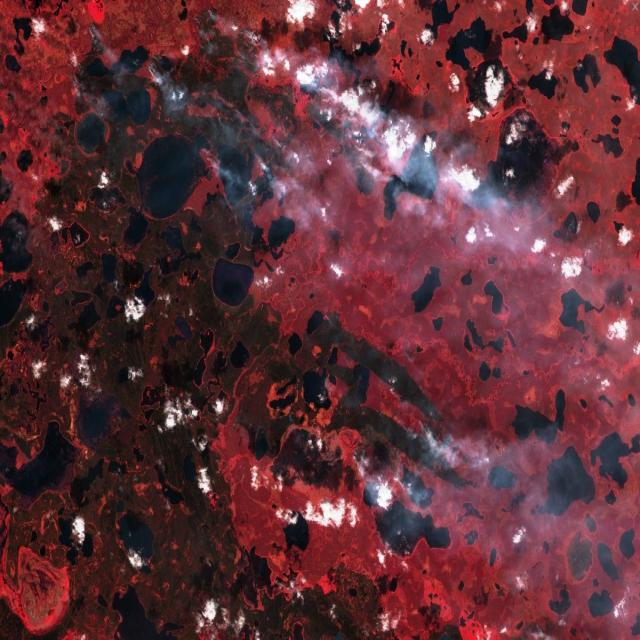fire: (52, 0, 382, 200), (327, 400, 475, 514), (507, 608, 555, 640)
